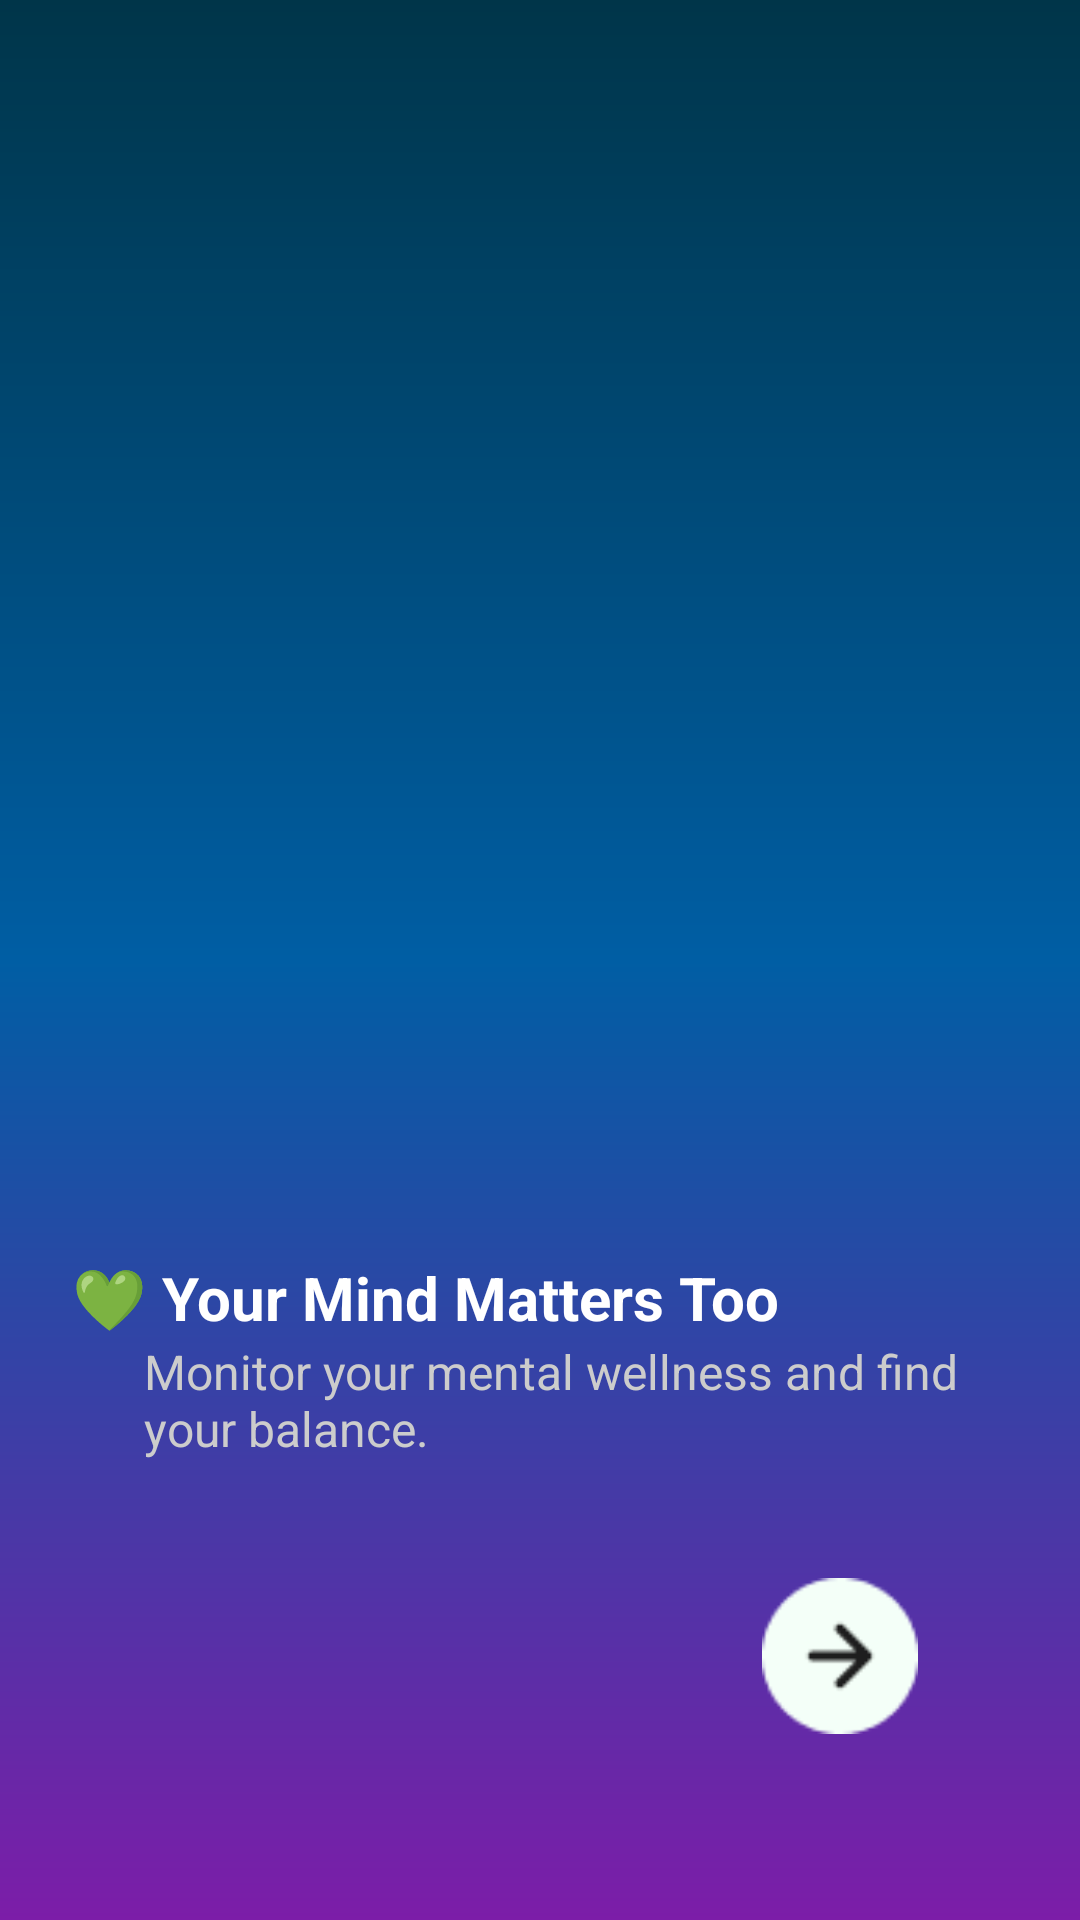

Named icons in this screenshot (1080 × 1920) and their centers, (x=x, y=y):
arrow: (x=840, y=1677)
